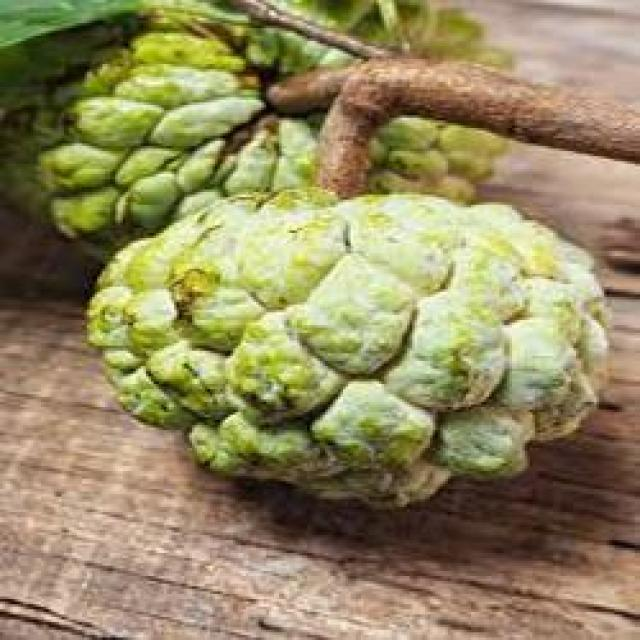apple: (79, 174, 617, 520)
